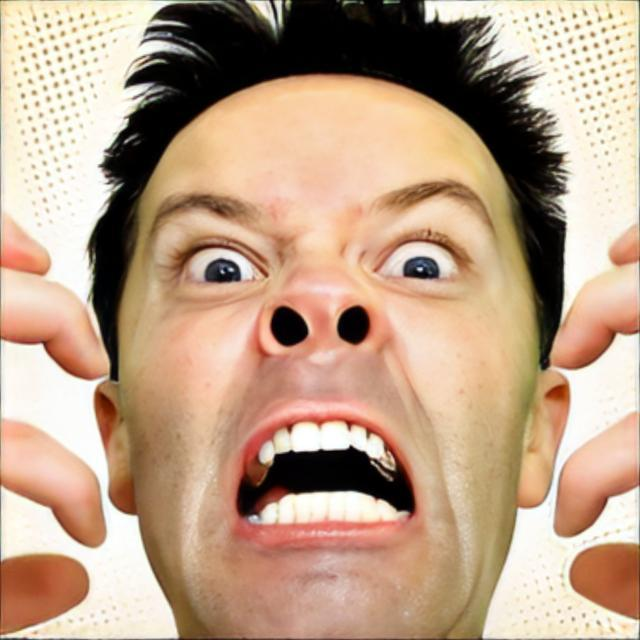anger: (118, 68, 534, 640)
